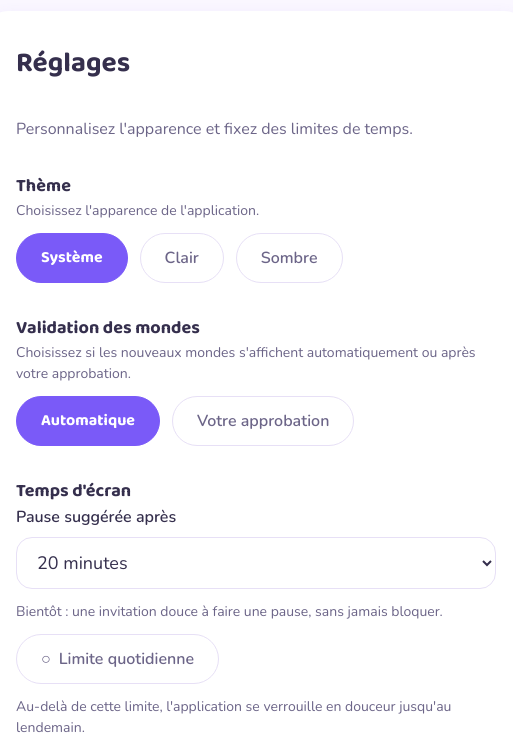
Test: SettingsForm — temps d'écran (STOCKÉ seulement, enforcement 7.8 #229) › activer le verrou dur ⇒ save({enabled:true}) + le sélecteur de limite APPARAÎT
Step 1. Click the switch labelled "Limite quotidienne" → coordinates (118, 659), box [16,634,219,684]
(page scrolled)
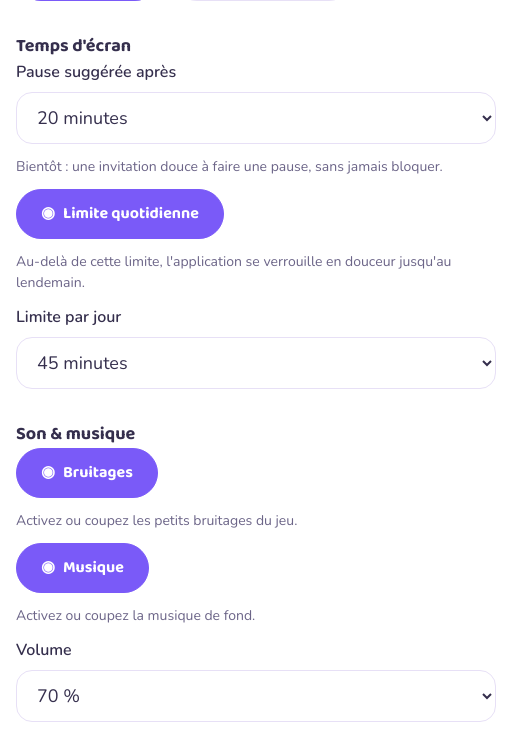
Expected: the dropdown labelled "Limite par jour" is shown, [16,337,496,389]
